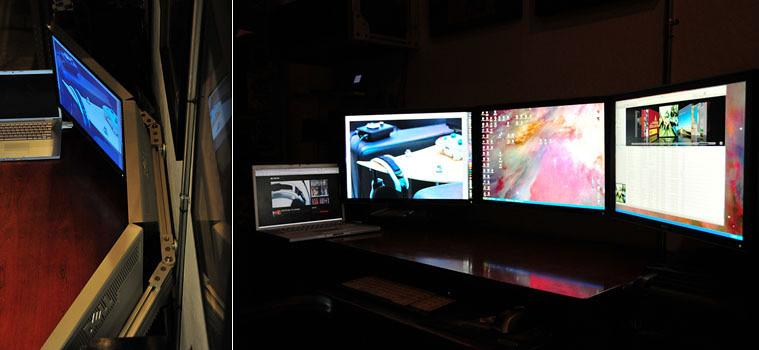computer: (44, 23, 179, 347), (343, 110, 475, 223), (41, 223, 145, 350), (251, 163, 382, 243), (1, 70, 63, 162)
